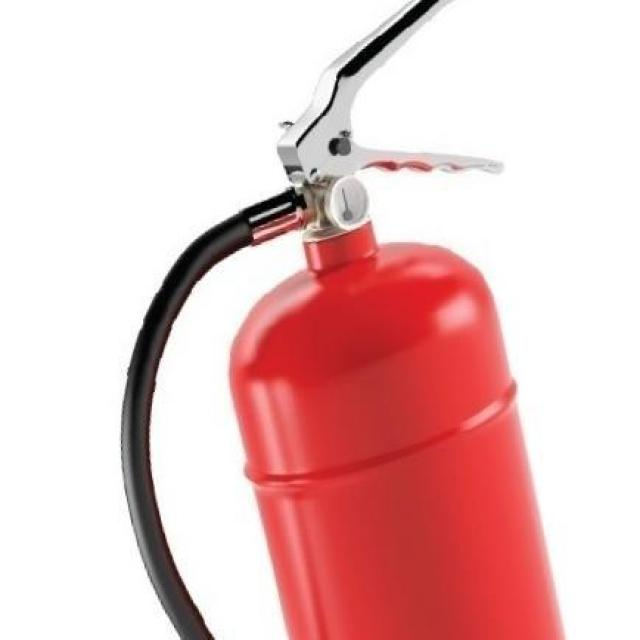fire_extinguisher: (110, 0, 571, 639)
